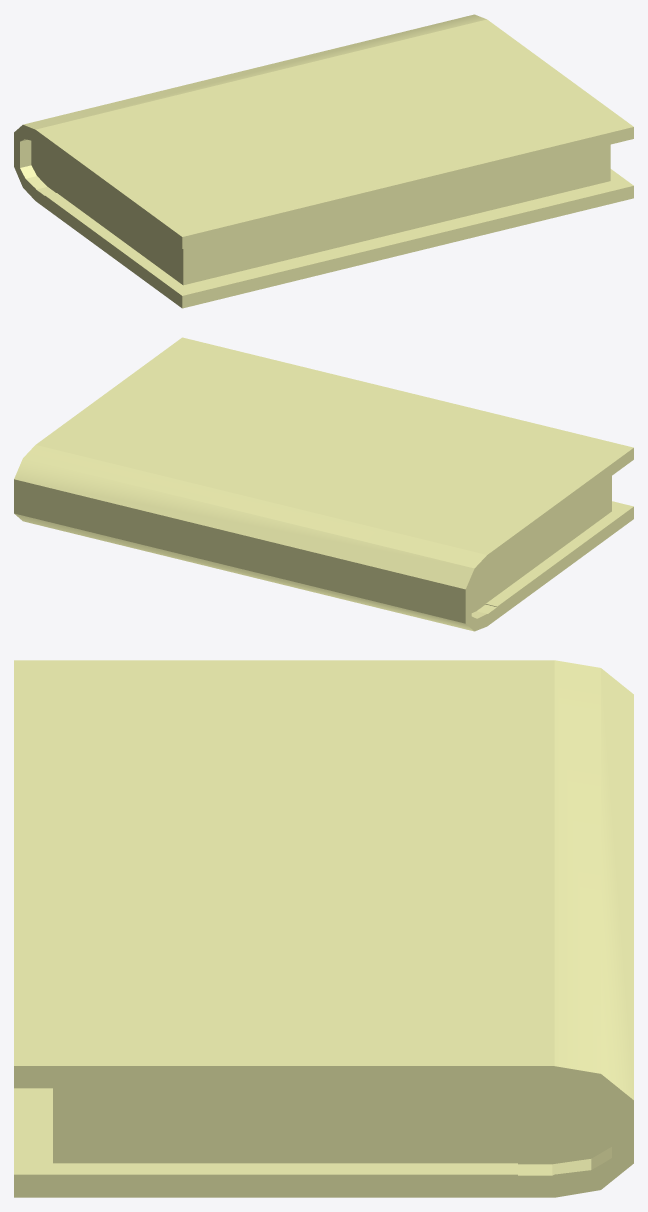
File: bookold2.fbx
3 views of the same model, one above another, from view 1: azimuth 30°, elevation 25°; view 2: azimuth 150°, elevation 25°; view 3: azimuth 270°, elevation 25° (orthographic). The views are drawn at different scales.
Parts seen in each view (by area): view 1: old_book_3; view 2: old_book_3; view 3: old_book_3.
Boxes of the visible parts, x1,y1,x2,y2 form: old_book_3: (14,14,633,308); old_book_3: (14,337,633,631); old_book_3: (14,660,633,1197).
Bounding box in the file's own units: 38.99 × 5.9 × 25.17.
